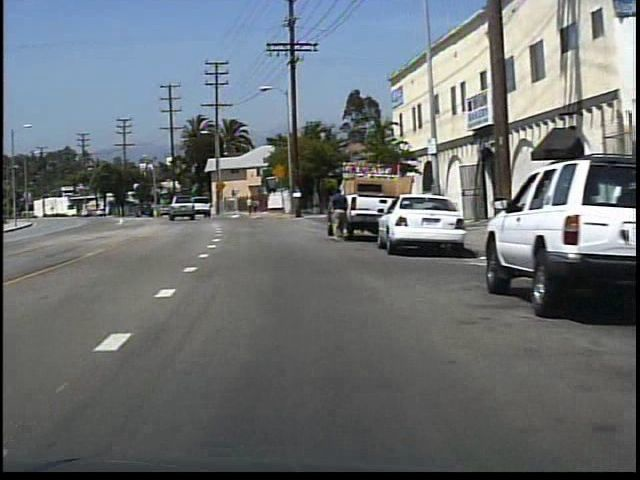person: (326, 185, 350, 244), (244, 195, 254, 217), (252, 196, 262, 215)
